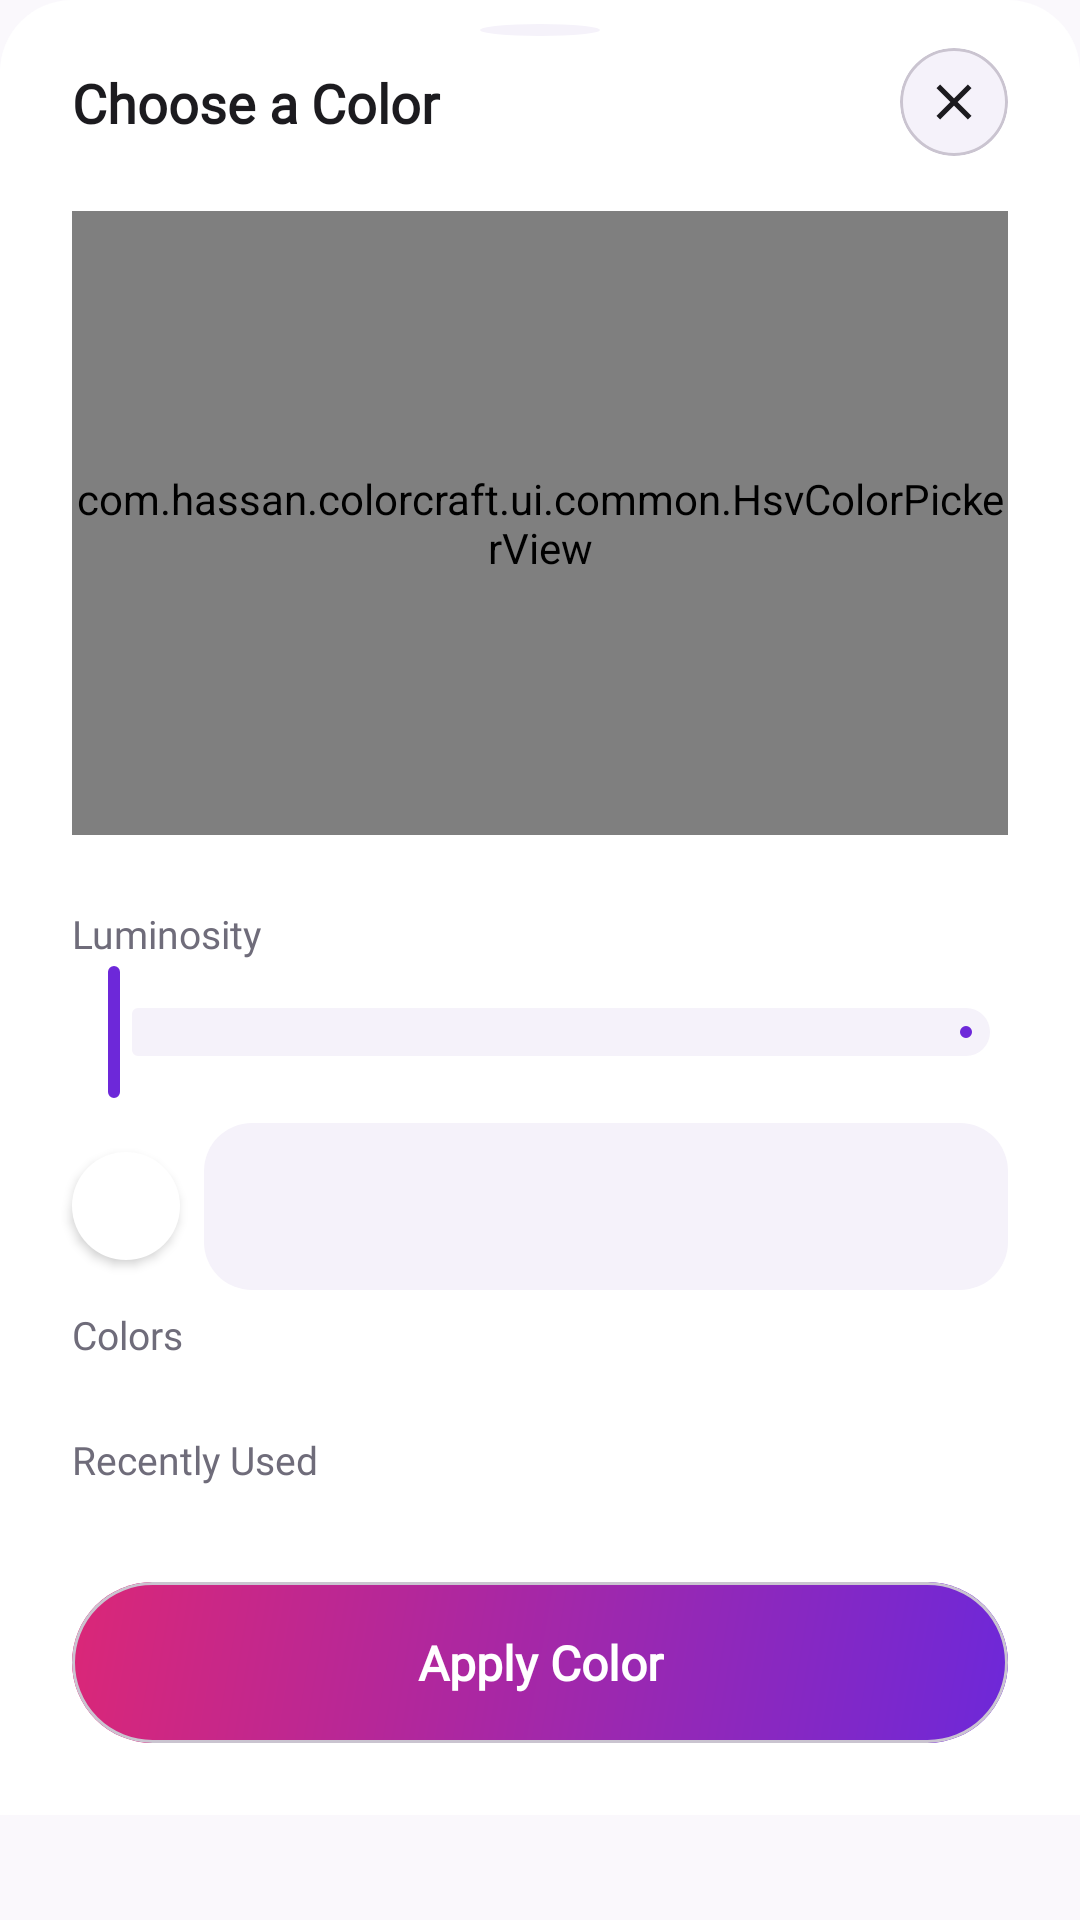

Named icons in this screenshot (1080*1920) and their bounding boxes, (x1, y1, x2, y2):
Close: (900, 48, 1008, 156)
